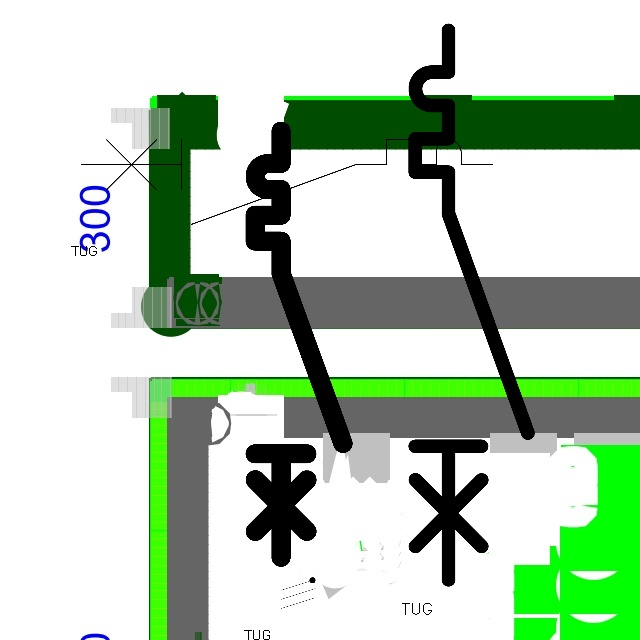interruptor_termomagnetico: (401, 16, 542, 594), (244, 120, 353, 568), (71, 129, 503, 234)
